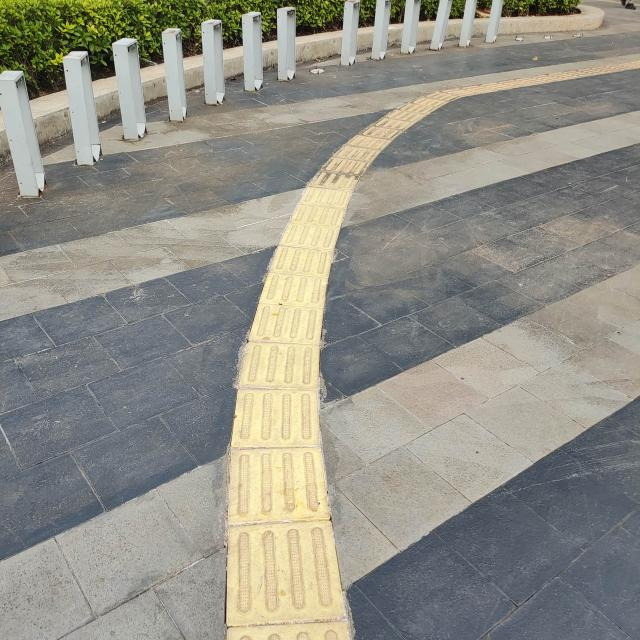lurus: (216, 227, 354, 640)
